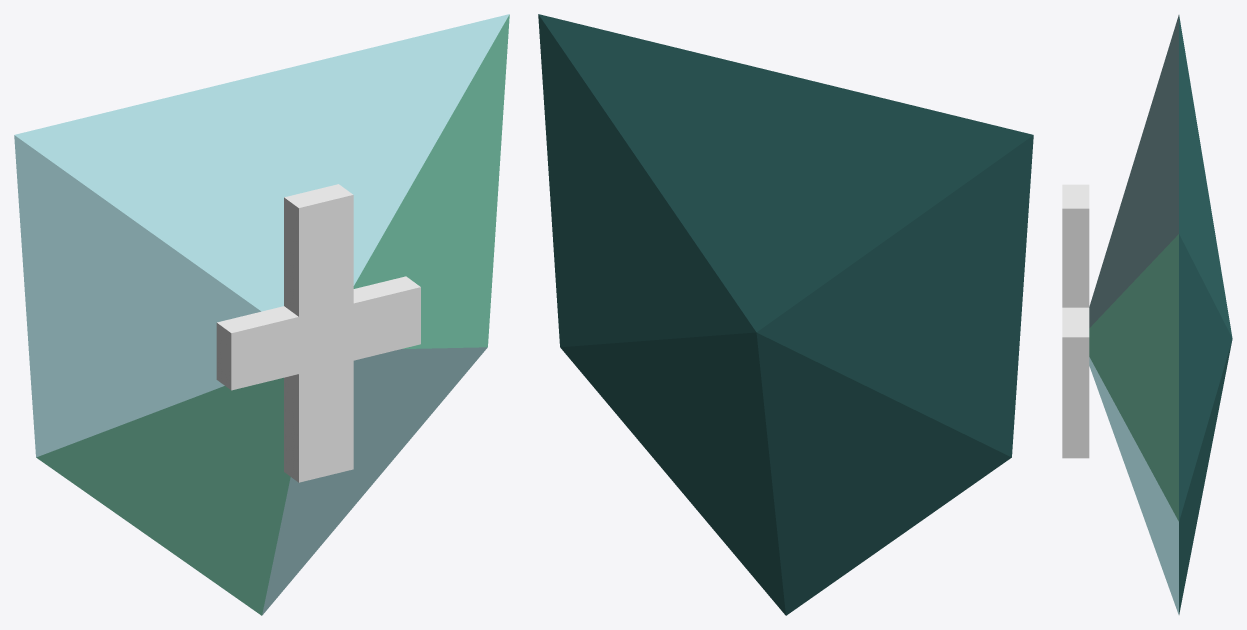
File: shield.glb
3 views of the same model, side by side, from view 1: azimuth 30°, elevation 25°; view 2: azimuth 150°, elevation 25°; view 3: azimuth 270°, elevation 25° (orthographic). The views are drawn at different scales.
Parts seen in each view (by area): view 1: Prop_shield; view 2: Prop_shield; view 3: Prop_shield.
Boxes of the visible parts, box(x1,y1,x2,y2) form: Prop_shield: box(14, 14, 509, 615); Prop_shield: box(538, 14, 1033, 615); Prop_shield: box(1062, 15, 1232, 614).
Bounding box in the file's own units: 0.68 × 0.71 × 0.2225.
